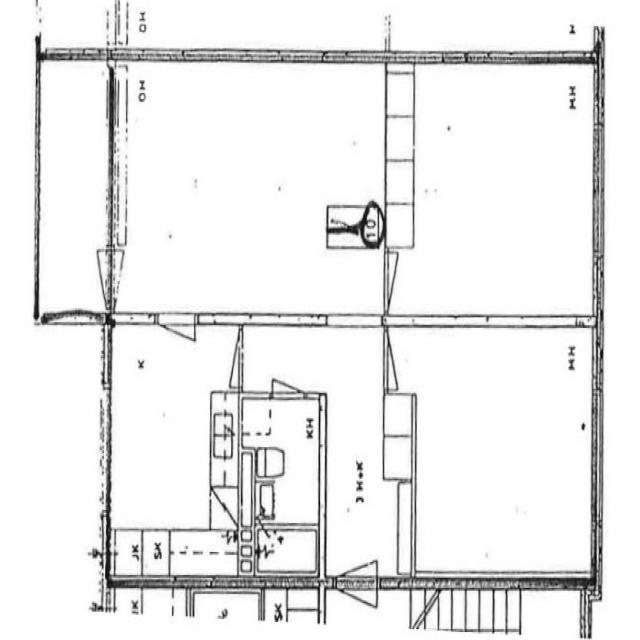door: (336, 513, 377, 587), (104, 249, 150, 310), (66, 249, 111, 310), (158, 315, 195, 384), (385, 252, 425, 311), (385, 331, 425, 389), (202, 330, 242, 387), (272, 341, 305, 398)
